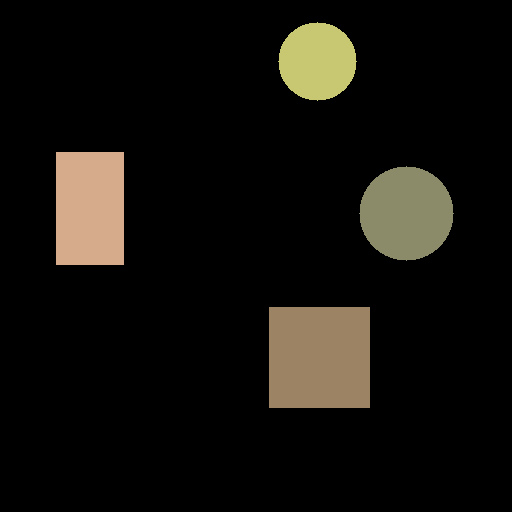circle: (359, 166, 453, 260), (278, 22, 356, 100)
rectangle: (56, 152, 123, 264)
square: (269, 307, 369, 407)
